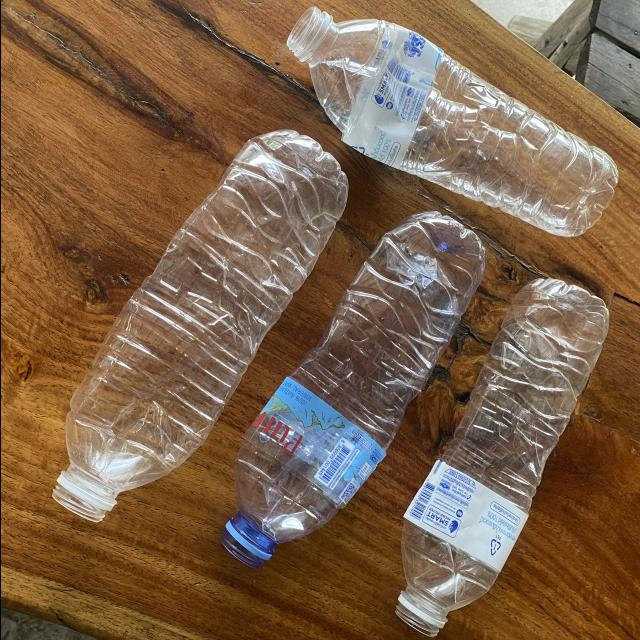plastik: (52, 131, 346, 521), (221, 212, 486, 567), (286, 7, 617, 236), (411, 279, 608, 523), (395, 502, 524, 636)
